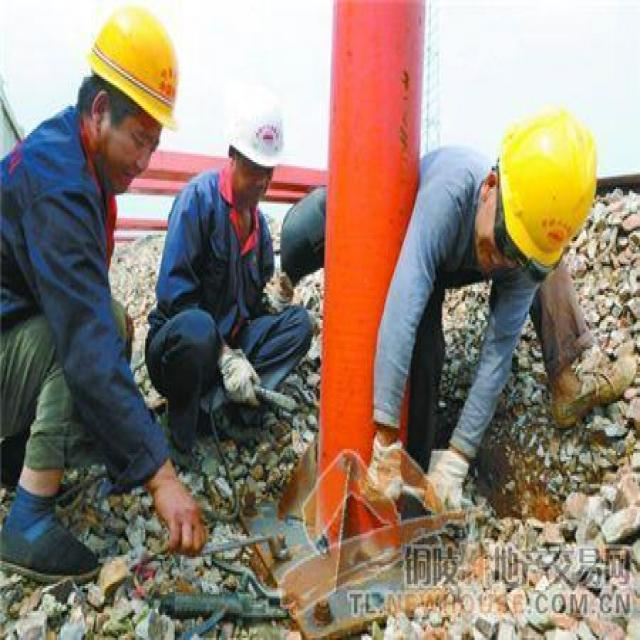boots: (0, 484, 100, 584), (547, 350, 637, 429)
gloves: (421, 447, 471, 513), (365, 428, 406, 503), (217, 345, 262, 407)
hard-hat: (498, 105, 598, 271), (87, 5, 179, 131), (227, 99, 285, 169)
person: (278, 105, 610, 517), (0, 3, 212, 572), (144, 101, 315, 462)
ppe-suit: (145, 155, 311, 444)
